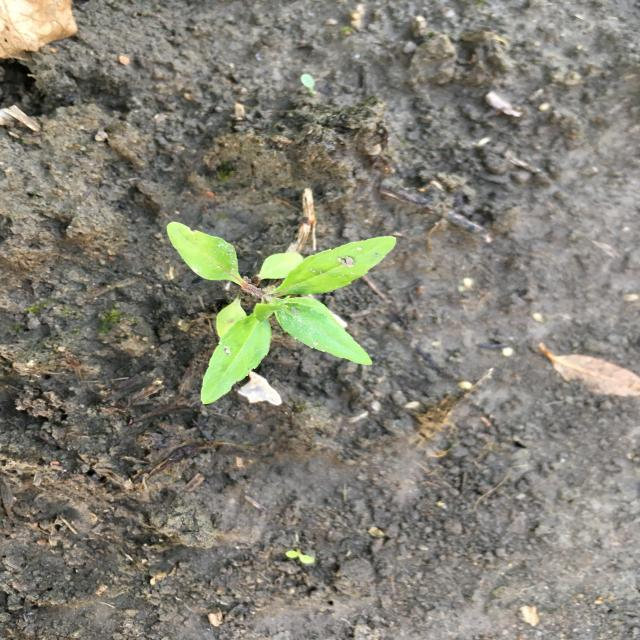Eclipta: (164, 220, 400, 406)
